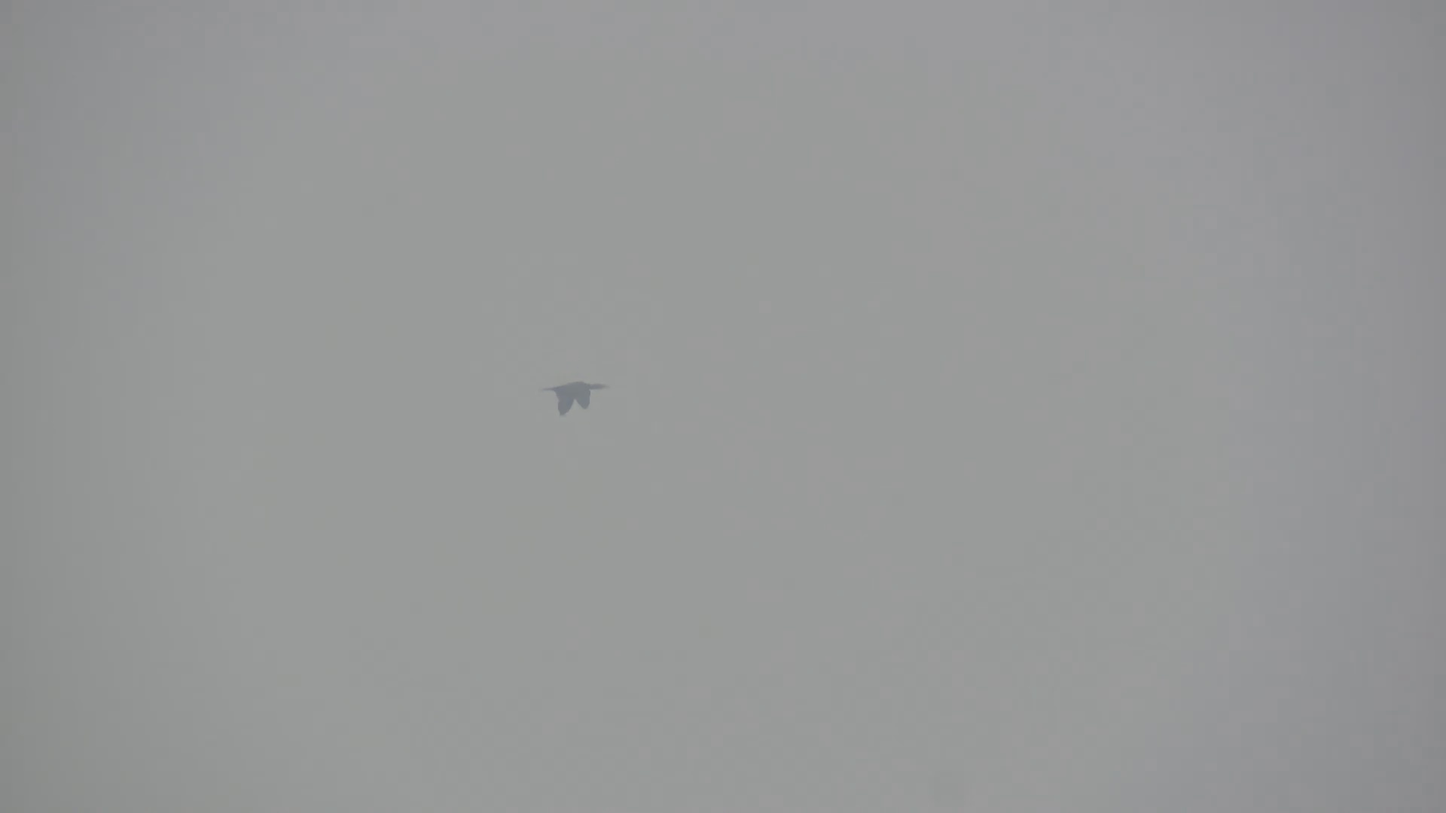Goose: (538, 380, 615, 416)
